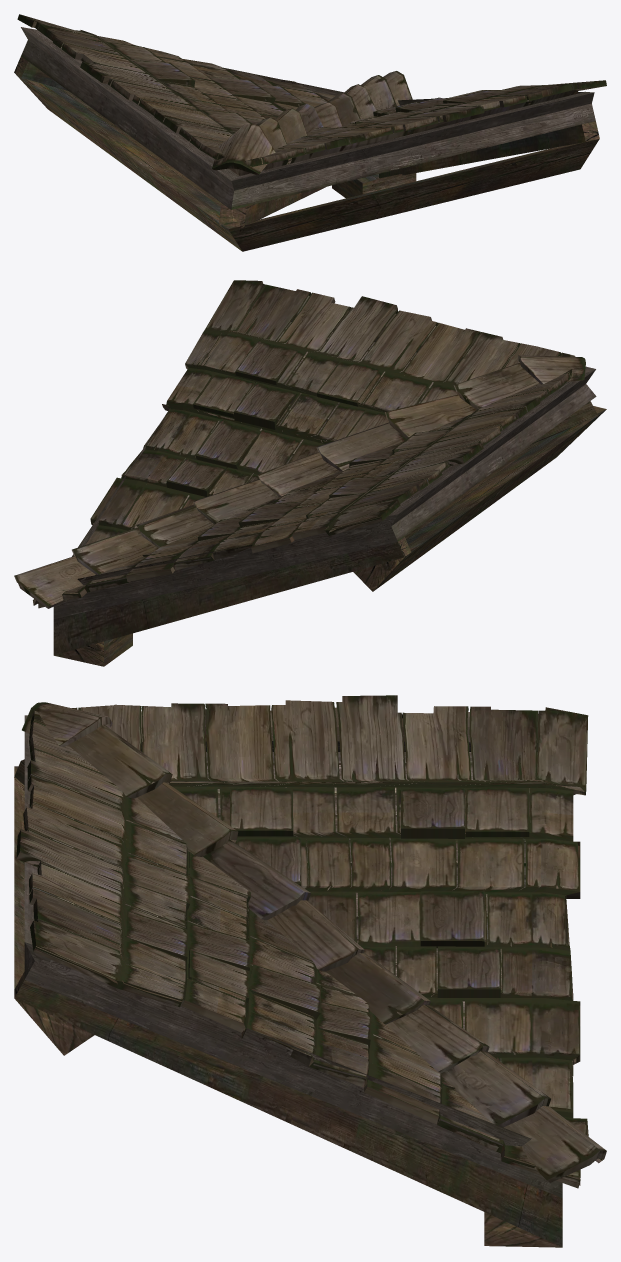
3 renders of one model, top to bottom at view 1: azimuth 30°, elevation 25°; view 2: azimuth 150°, elevation 25°; view 3: azimuth 270°, elevation 25°, orthographic. The views are drawn at different scales.
Visible parts, largest first — view 1: SM_T1_Roof_Large_Valley_Shallow_LOD0; view 2: SM_T1_Roof_Large_Valley_Shallow_LOD0; view 3: SM_T1_Roof_Large_Valley_Shallow_LOD0.
Part boxes in pixels (box(x1,y1,x2,y2)): SM_T1_Roof_Large_Valley_Shallow_LOD0: box(14, 14, 606, 251); SM_T1_Roof_Large_Valley_Shallow_LOD0: box(14, 280, 606, 666); SM_T1_Roof_Large_Valley_Shallow_LOD0: box(14, 695, 606, 1247).
Size of the model in its own units: 3.4 by 2.11 by 3.4.
Materials: 3 (3 with a texture image).
